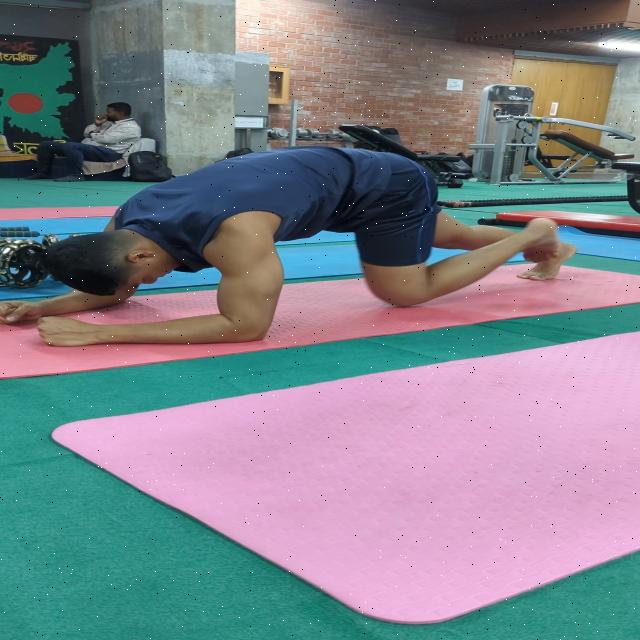Normal_MountainClimbers: (0, 123, 633, 359)
